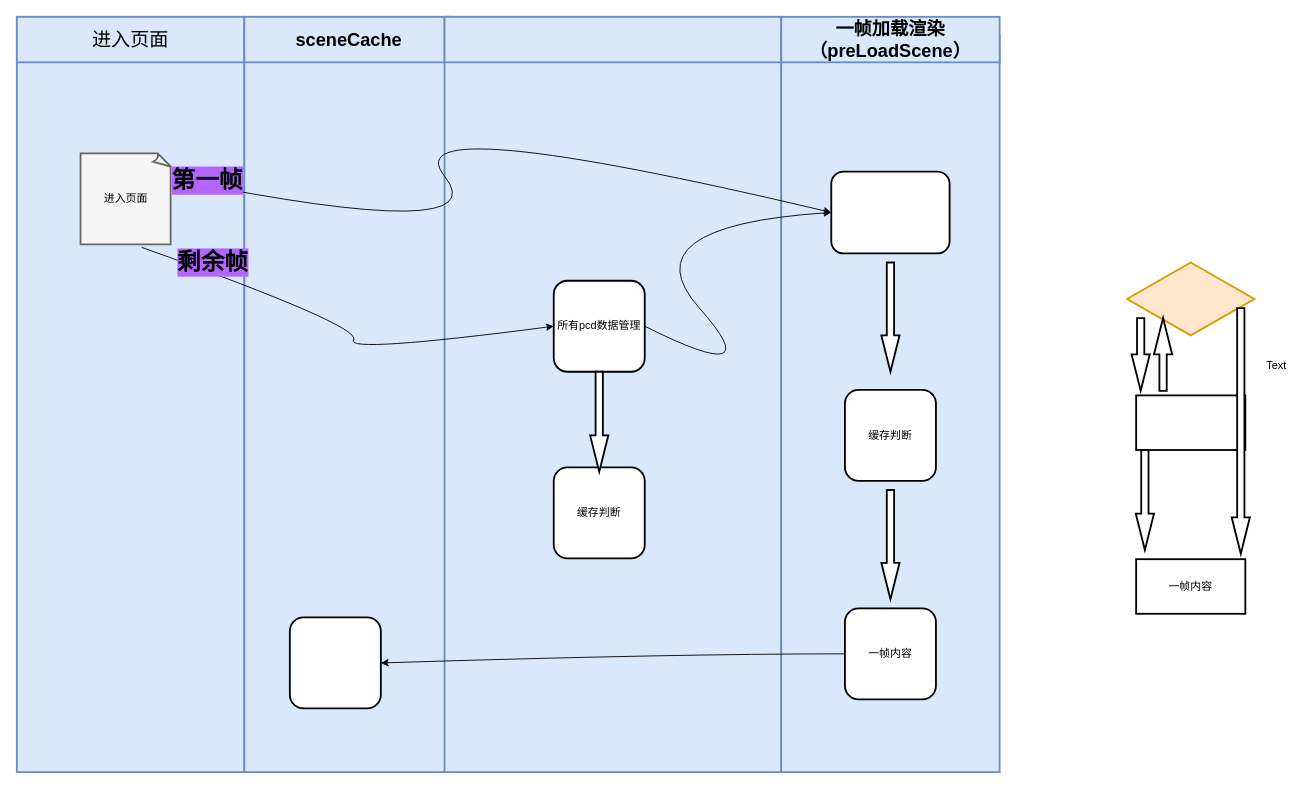
The diagram is 1309 pixels wide and 788 high, and some of its shapes have lost their labels. Each missing label, with the box of its shape:
场景缓存管理: (288, 616, 381, 709)
所有pcd数据（startLoad）: (443, 15, 782, 63)
是否有缓存: (1126, 261, 1255, 336)
标注盒子 pcd文件 图片文件: (830, 170, 950, 254)
远端资源: (1135, 394, 1246, 450)
